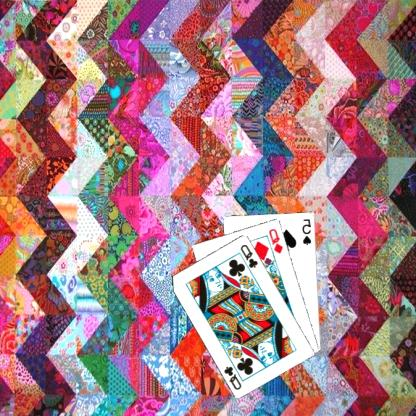5S: (301, 216, 315, 246)
QC: (223, 363, 245, 391), (240, 241, 261, 269)
QD: (268, 225, 286, 255)
